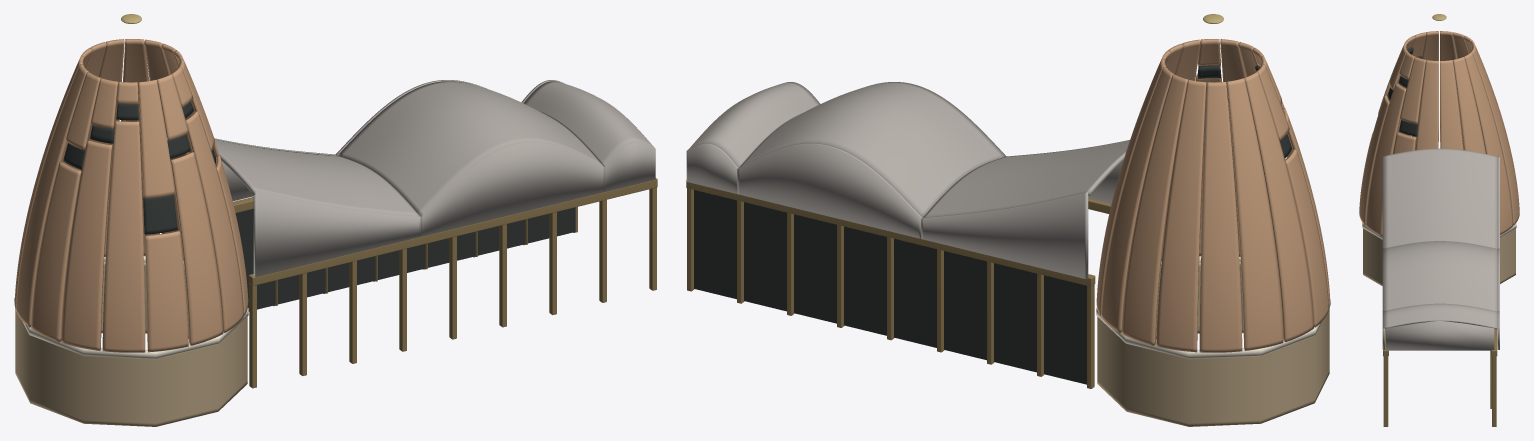
Rendered from tower.glb.
3 renders of one model, left to right at view 1: azimuth 30°, elevation 25°; view 2: azimuth 150°, elevation 25°; view 3: azimuth 270°, elevation 25°, orthographic. The views are drawn at different scales.
Visible parts, largest first — view 1: Continuous lower tower wall, Undulating roof shell 01, Curved pavilion fascia 01, Curved pavilion fascia 00, Tower panel 10 lower, Undulating roof shell 00, Pavilion rear recessed glazing, Tower panel 09 lower, Tower panel 12 lower, Tower panel 08 lower, Undulating roof shell 02, Tower panel 11 lower (+26 smaller); view 2: Pavilion rear recessed glazing, Continuous lower tower wall, Undulating roof shell 01, Curved pavilion fascia 01.001, Tower curved vertical panel 05, Tower curved vertical panel 04, Curved pavilion fascia 00.001, Tower curved vertical panel 06, Undulating roof shell 00, Tower curved vertical panel 03, Tower curved vertical panel 07, Tower curved vertical panel 02 (+20 smaller); view 3: Undulating roof shell 00, Undulating roof shell 01, Pavilion end closure, Tower curved vertical panel 02, Tower panel 13 lower, Undulating roof shell 02, Continuous lower tower wall, Tower curved vertical panel 01, Tower curved vertical panel 15, Tower curved vertical panel 00, Tower curved vertical panel 03, Tower panel 14 upper (+14 smaller).
Boxes of the visible parts, bbox=[...] form: Continuous lower tower wall: bbox=[15, 261, 247, 426]; Undulating roof shell 01: bbox=[337, 81, 604, 216]; Curved pavilion fascia 01: bbox=[421, 142, 604, 236]; Curved pavilion fascia 00: bbox=[253, 191, 420, 277]; Tower panel 10 lower: bbox=[102, 121, 145, 352]; Undulating roof shell 00: bbox=[214, 139, 420, 216]; Pavilion rear recessed glazing: bbox=[235, 207, 575, 311]; Tower panel 09 lower: bbox=[61, 140, 112, 350]; Tower panel 12 lower: bbox=[170, 152, 223, 345]; Tower panel 08 lower: bbox=[31, 162, 81, 341]; Undulating roof shell 02: bbox=[523, 81, 654, 166]; Tower panel 11 lower: bbox=[145, 231, 188, 352]; Pavilion rear recessed glazing: bbox=[694, 190, 1086, 384]; Continuous lower tower wall: bbox=[1097, 261, 1329, 426]; Undulating roof shell 01: bbox=[739, 82, 1006, 217]; Curved pavilion fascia 01.001: bbox=[737, 143, 922, 238]; Tower curved vertical panel 05: bbox=[1199, 81, 1242, 352]; Tower curved vertical panel 04: bbox=[1156, 79, 1206, 352]; Curved pavilion fascia 00.001: bbox=[921, 192, 1088, 279]; Tower curved vertical panel 06: bbox=[1226, 78, 1283, 350]; Undulating roof shell 00: bbox=[923, 140, 1129, 217]; Tower curved vertical panel 03: bbox=[1121, 74, 1188, 345]; Tower curved vertical panel 07: bbox=[1243, 72, 1313, 341]; Tower curved vertical panel 02: bbox=[1101, 66, 1174, 332]; Undulating roof shell 00: bbox=[1382, 148, 1497, 248]; Undulating roof shell 01: bbox=[1382, 241, 1497, 311]; Pavilion end closure: bbox=[1386, 321, 1494, 350]; Tower curved vertical panel 02: bbox=[1463, 52, 1513, 234]; Tower panel 13 lower: bbox=[1365, 83, 1406, 236]; Undulating roof shell 02: bbox=[1382, 303, 1497, 329]; Continuous lower tower wall: bbox=[1363, 228, 1515, 285]; Tower curved vertical panel 01: bbox=[1452, 57, 1485, 153]; Tower curved vertical panel 15: bbox=[1415, 60, 1438, 150]; Tower curved vertical panel 00: bbox=[1440, 60, 1463, 149]; Tower curved vertical panel 03: bbox=[1470, 46, 1519, 225]; Tower panel 14 upper: bbox=[1399, 57, 1426, 123].
Bounding box in the file's own units: 1 × 0.5889 × 0.3444.
